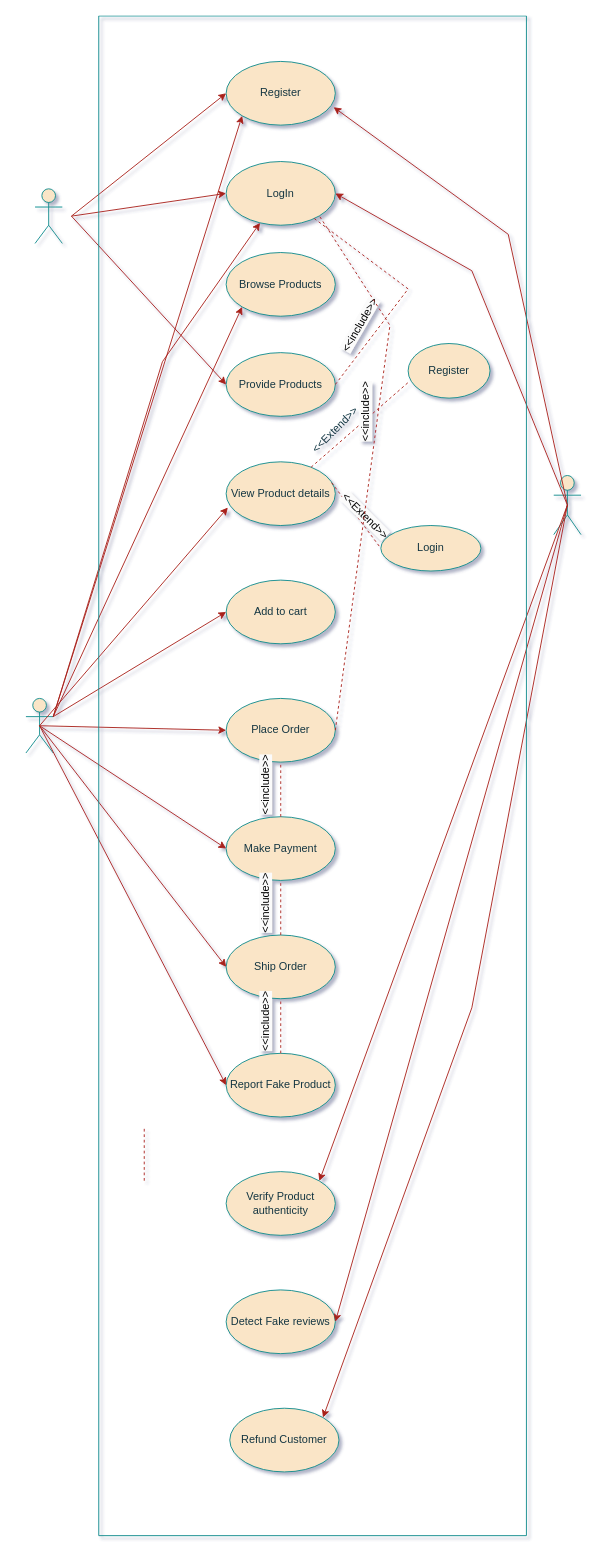
This 603x1557 diagram has some shape labels left out. Each missing label, with the box of its shape:
Admin: (553, 475, 581, 535)
Customer: (25, 698, 53, 753)
Seller: (34, 188, 62, 243)
